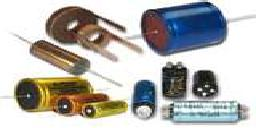Electrolytic-Capacitor: (143, 1, 234, 58), (166, 97, 251, 126), (81, 98, 131, 120), (132, 79, 158, 115)
